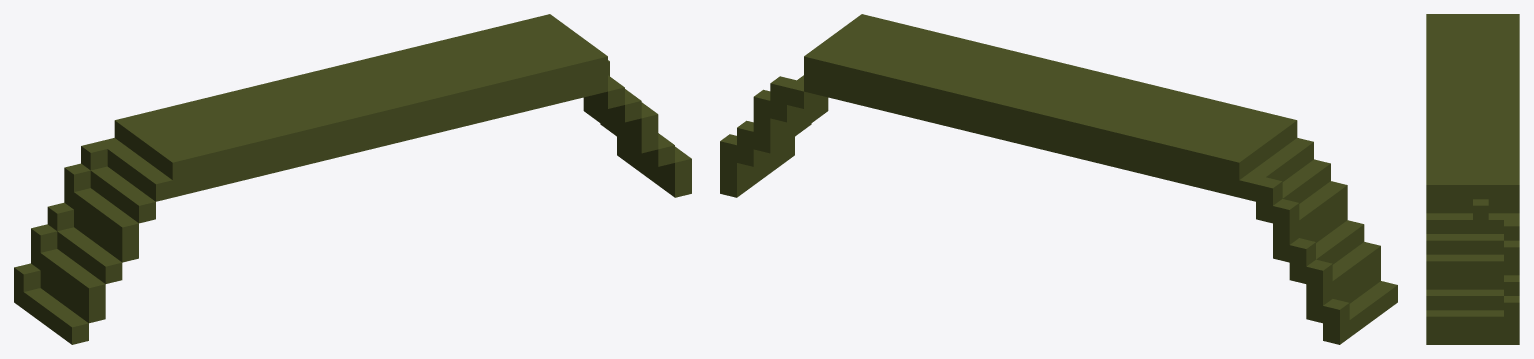
The model's file is army_jeep_rear_fender.glb.
3 renders of one model, left to right at view 1: azimuth 30°, elevation 25°; view 2: azimuth 150°, elevation 25°; view 3: azimuth 270°, elevation 25°, orthographic. The views are drawn at different scales.
Parts seen in each view (by area): view 1: body:compound; view 2: body:compound; view 3: body:compound.
Boxes of the visible parts, <box> form: body:compound: <box>14,14,691,344</box>; body:compound: <box>720,14,1397,344</box>; body:compound: <box>1426,14,1519,344</box>.
Size of the model in its own units: 1.16 by 0.2812 by 0.1875.
